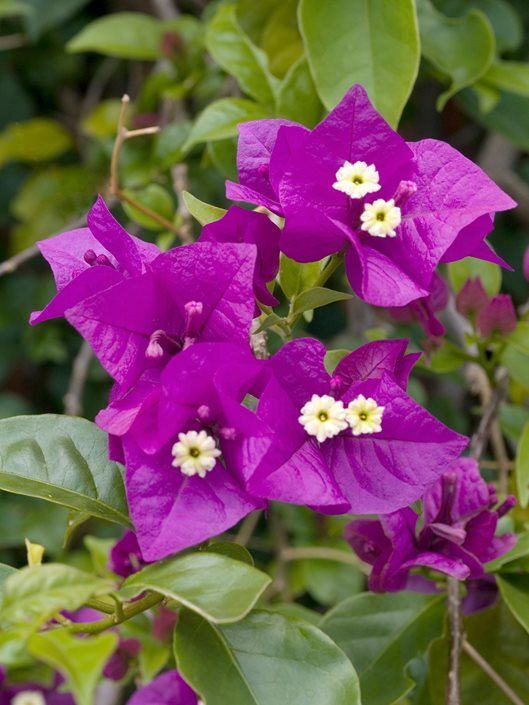bougainvillea: (273, 83, 515, 308), (239, 347, 464, 516), (77, 244, 261, 438), (118, 347, 265, 564)
